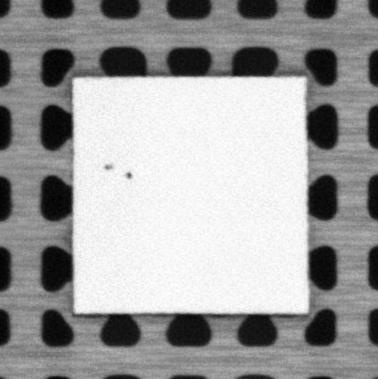DIE_INK: (103, 160, 115, 173), (124, 169, 133, 180)
